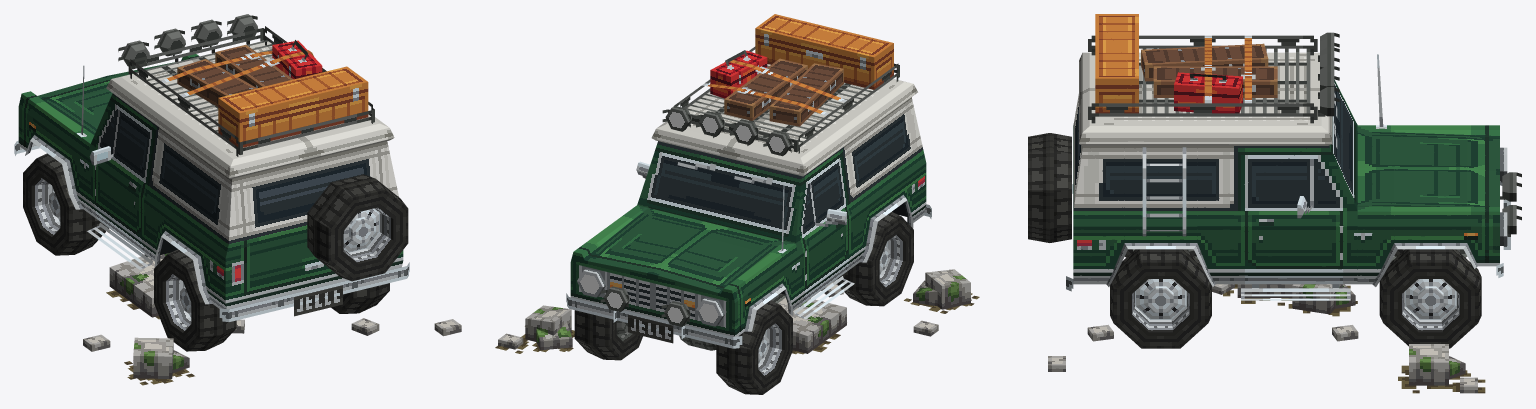
3 renders of one model, left to right at view 1: azimuth 30°, elevation 25°; view 2: azimuth 150°, elevation 25°; view 3: azimuth 270°, elevation 25°, orthographic. The views are drawn at different scales.
Visible parts, largest first — view 1: cuboid (×13), tube (×4), plane (×5), cylinder (×4); view 2: cuboid (×15), tube (×3), cylinder (×8), plane (×5); view 3: cuboid (×13), tube (×3), plane (×6).
Part boxes in pixels (<box>): cuboid (×13): <box>18,26,409,378</box>; tube (×4): <box>23,153,408,351</box>; plane (×5): <box>25,50,313,304</box>; cylinder (×4): <box>121,14,258,66</box>; cuboid (×15): <box>525,14,970,353</box>; tube (×3): <box>574,212,913,394</box>; cylinder (×8): <box>577,106,791,326</box>; plane (×5): <box>702,60,913,331</box>; cuboid (×13): <box>1073,14,1499,385</box>; tube (×3): <box>1028,133,1481,348</box>; plane (×6): <box>1106,35,1485,393</box>.
Size of the model in its own units: 7.19 by 4.89 by 8.46.
2 materials, 2 textured.
